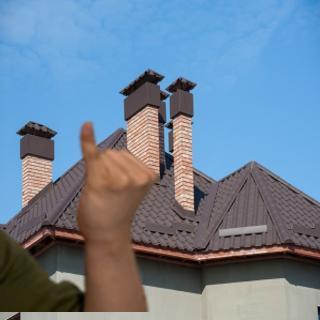FINE: (74, 118, 162, 247)
